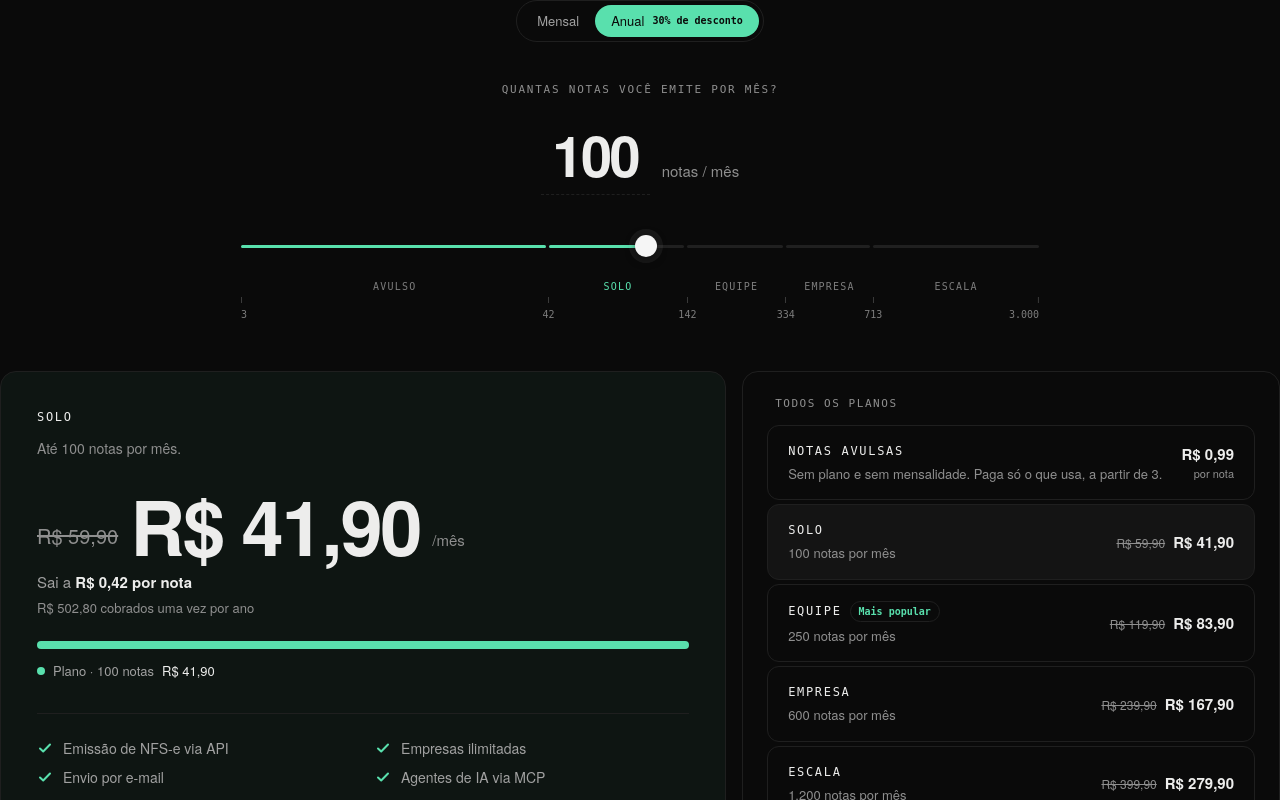
Test: plan picker › the slider starts at 3 notes: avulso only, R$ 2,97
Set the slider to "0" at (238, 246), box [230,235,1050,257]
(page scrolled)
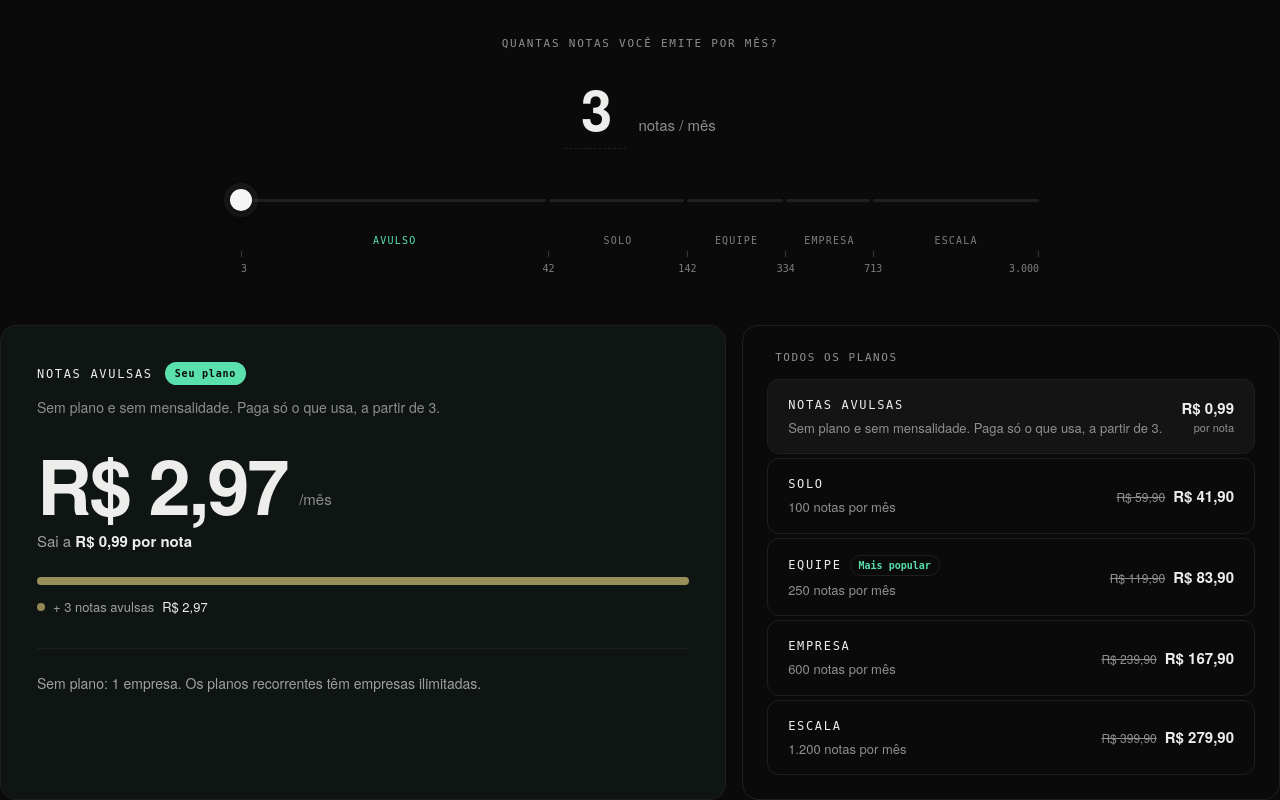
Expected: the element with test id "featured-plan" shows "ilimitadas", [37,673,481,693]
Expected: the element with test id "featured-plan" shows "R$ 2,97", [37,429,287,538]
Expected: the element with test id "featured-plan" shows "1 empresa", [37,673,481,693]
